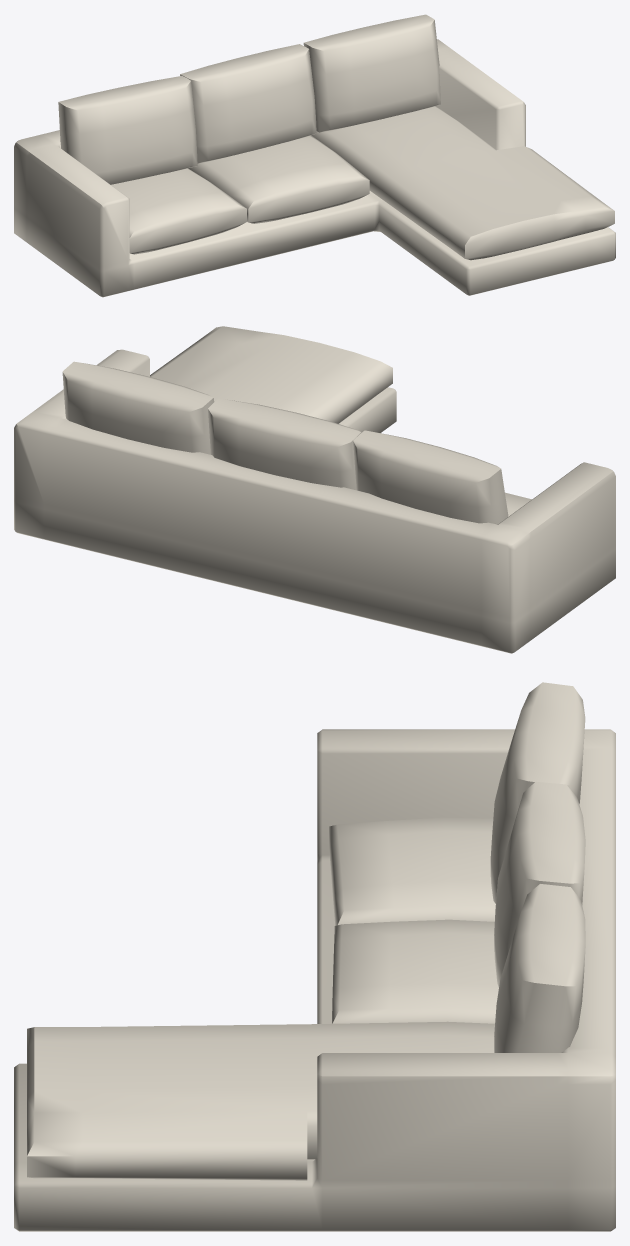
File: pk_sect_cream.glb
The picture shows the model from 3 angles, top to bottom: view 1: azimuth 30°, elevation 25°; view 2: azimuth 150°, elevation 25°; view 3: azimuth 270°, elevation 25°; orthographic projection. The views are drawn at different scales.
Visible parts, largest first — view 1: pk_sect_cream; view 2: pk_sect_cream; view 3: pk_sect_cream.
Part boxes in pixels (<box>): pk_sect_cream: <box>14,14,615,297</box>; pk_sect_cream: <box>14,326,615,653</box>; pk_sect_cream: <box>14,682,615,1231</box>.
Bounding box in the file's own units: 2.9 × 0.88 × 2.1.
1 material, 1 textured.
